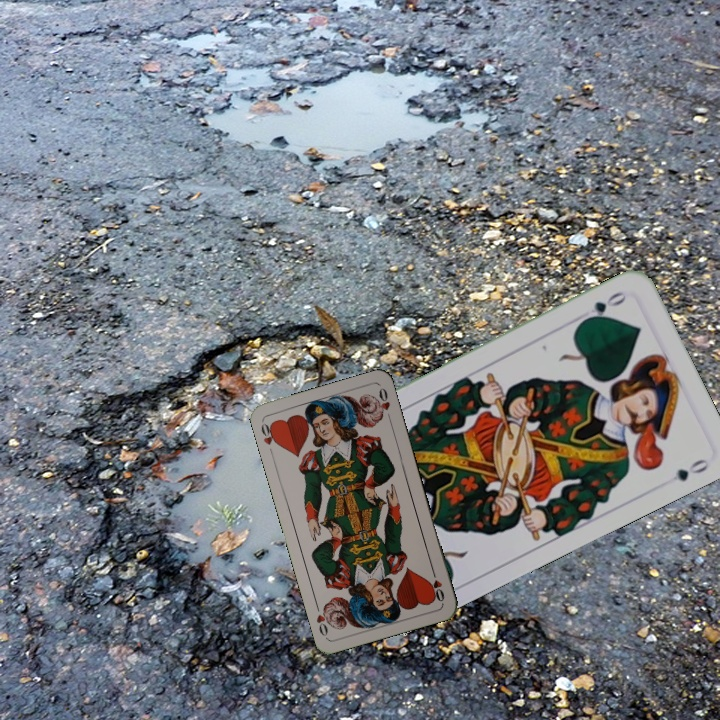GO: (578, 287, 631, 325)
HO: (426, 565, 447, 604), (257, 418, 281, 448)
